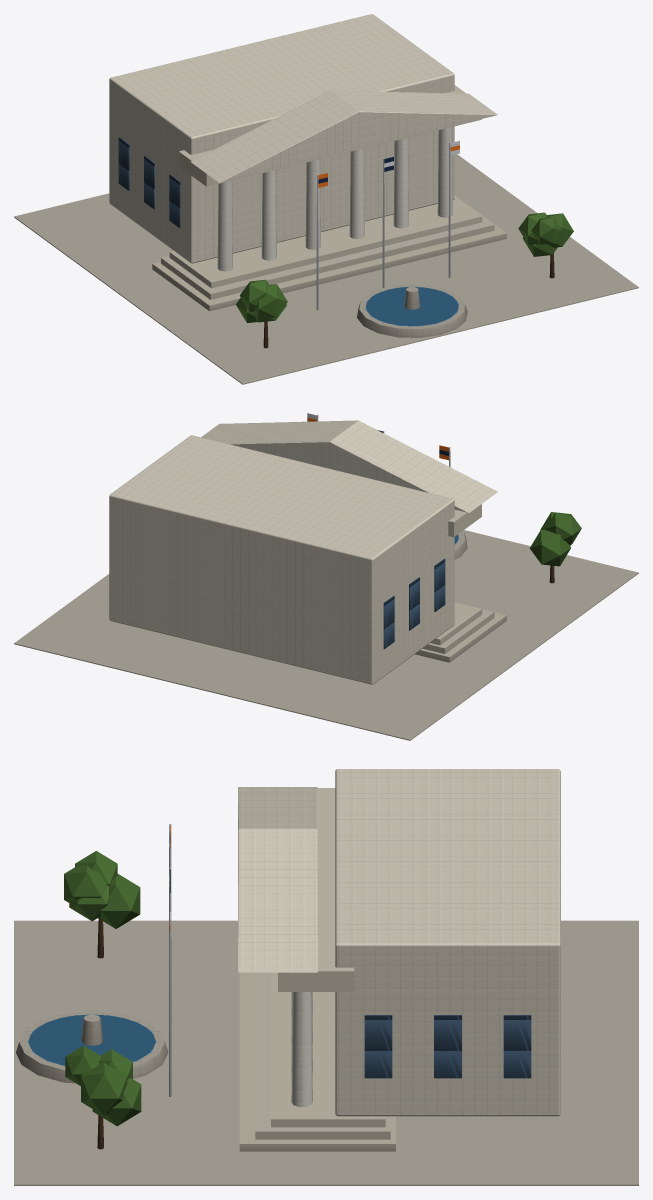
Rendered from sede_da_federacao.glb.
The picture shows the model from 3 angles, top to bottom: view 1: azimuth 30°, elevation 25°; view 2: azimuth 150°, elevation 25°; view 3: azimuth 270°, elevation 25°; orthographic projection. The views are drawn at different scales.
Parts seen in each view (by area): view 1: sede_da_federacao, sede_da_federacao_liso; view 2: sede_da_federacao, sede_da_federacao_liso; view 3: sede_da_federacao_liso, sede_da_federacao.
Boxes of the visible parts, <box> form: sede_da_federacao: <box>109,14,497,337</box>; sede_da_federacao_liso: <box>14,85,638,384</box>; sede_da_federacao: <box>109,413,497,684</box>; sede_da_federacao_liso: <box>14,504,638,740</box>; sede_da_federacao_liso: <box>14,788,638,1185</box>; sede_da_federacao: <box>16,769,560,1116</box>.
Size of the model in its own units: 36 by 14.52 by 36.
Materials: 6 (4 with a texture image).
